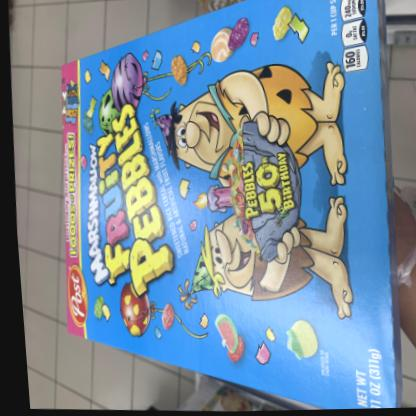cereal box: (32, 0, 413, 414)
